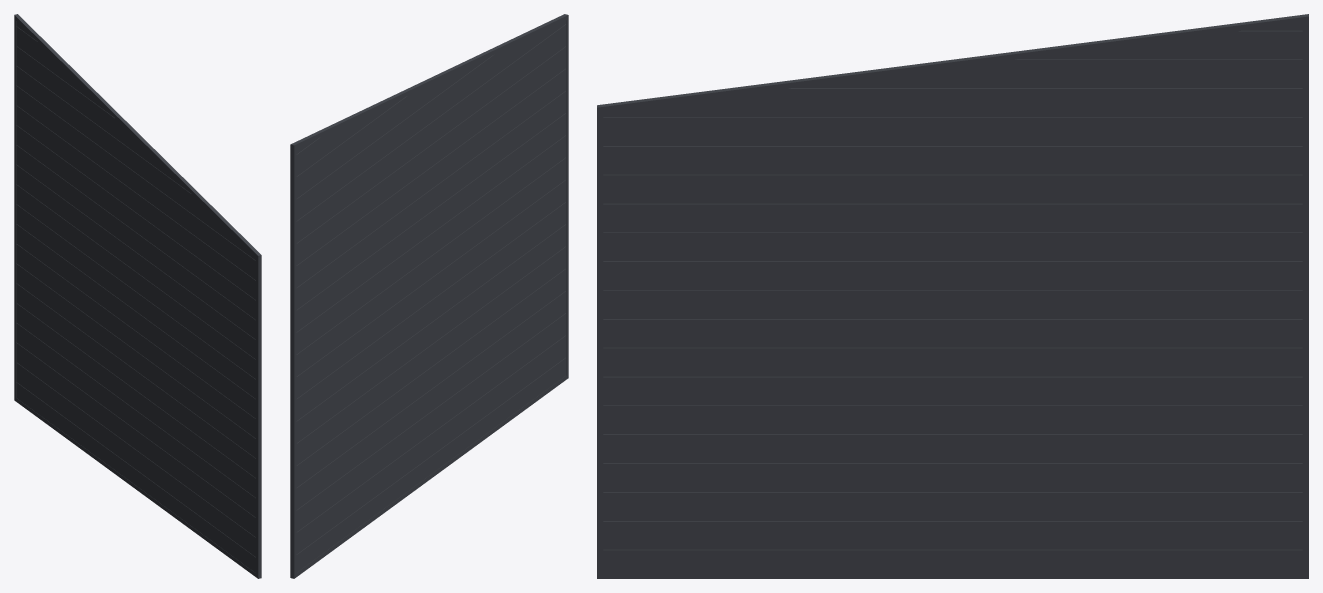
File: nebbiolo_grillo_panel_right_500_350.glb
The picture shows the model from 3 angles, left to right: view 1: azimuth 30°, elevation 25°; view 2: azimuth 150°, elevation 25°; view 3: azimuth 270°, elevation 25°; orthographic projection. The views are drawn at different scales.
Visible parts, largest first — view 1: grillo_panel_right_500_350; view 2: grillo_panel_right_500_350; view 3: grillo_panel_right_500_350.
Part boxes in pixels (x1,y1,x2,y2): grillo_panel_right_500_350: [14, 14, 261, 578]; grillo_panel_right_500_350: [290, 14, 568, 578]; grillo_panel_right_500_350: [597, 14, 1308, 578].
Bounding box in the file's own units: 0.028 × 2.99 × 3.44.
1 material, 1 textured.
